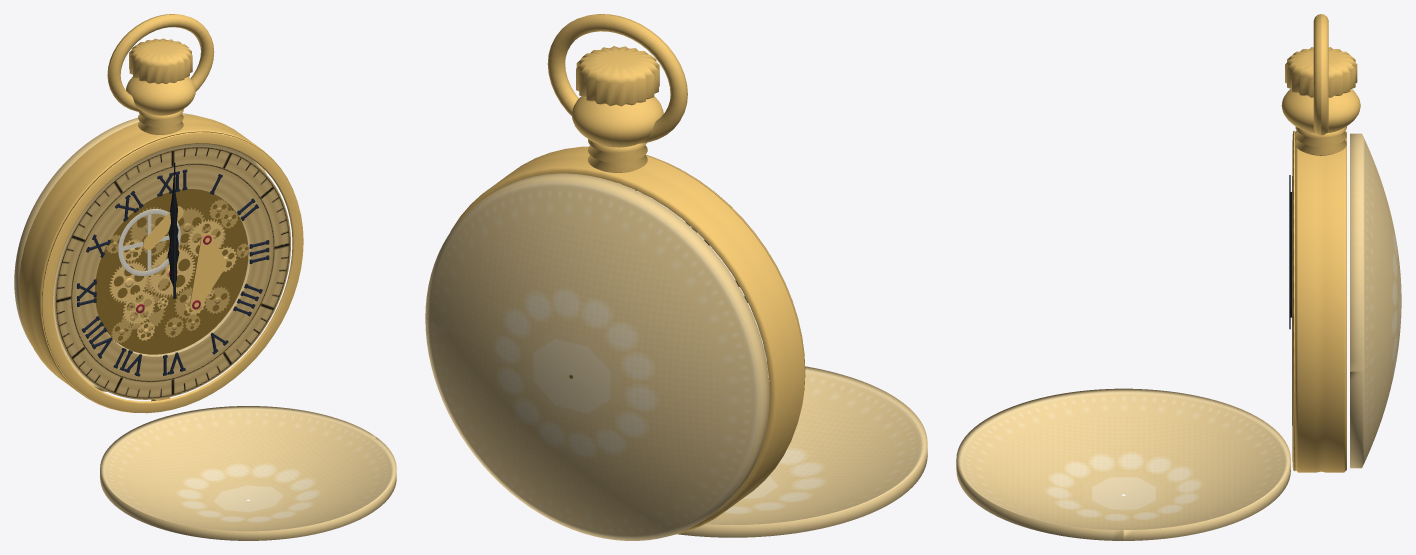
Rendered from pocket.glb.
3 views of the same model, side by side, from view 1: azimuth 30°, elevation 25°; view 2: azimuth 150°, elevation 25°; view 3: azimuth 270°, elevation 25° (orthographic). The views are drawn at different scales.
Visible parts, largest first — view 1: frontCover, dial, bezel, mainplate, band, backCover, numerals, bow, crown, bulb, trainBridge, balance (+8 smaller); view 2: backCover, frontCover, band, bow, crown, bulb, collar, bezel; view 3: frontCover, band, backCover, crown, bulb, bow, bezel, collar.
Boxes of the visible parts, x1,y1,x2,y2 form: frontCover: (100, 406, 396, 540); dial: (54, 145, 290, 399); bezel: (41, 131, 303, 413); mainplate: (95, 189, 248, 354); band: (18, 115, 292, 412); backCover: (14, 113, 266, 391); numerals: (77, 169, 269, 376); bow: (107, 14, 214, 112); crown: (129, 38, 192, 84); bulb: (126, 76, 195, 115); trainBridge: (189, 233, 226, 310); balance: (118, 209, 180, 275); backCover: (425, 173, 769, 540); frontCover: (677, 362, 927, 537); band: (450, 146, 804, 535); bow: (547, 14, 687, 143); crown: (576, 46, 659, 106); bulb: (572, 96, 663, 147); collar: (588, 139, 647, 172); bezel: (645, 154, 805, 422); frontCover: (956, 388, 1290, 540); band: (1295, 131, 1346, 472); backCover: (1350, 133, 1401, 468); crown: (1285, 47, 1357, 97); bulb: (1281, 89, 1360, 133); bow: (1313, 14, 1328, 135); bezel: (1292, 130, 1295, 470); collar: (1295, 126, 1346, 155).
Size of the model in its own units: 0.05 by 0.0779 by 0.0648.
46 materials, 3 textured.
